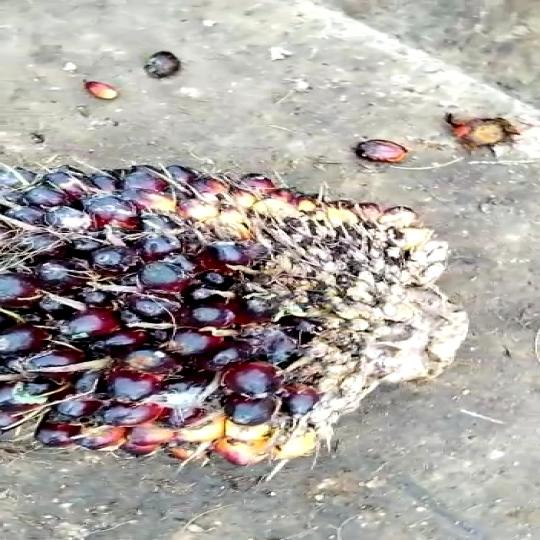mentah: (1, 154, 483, 475)
